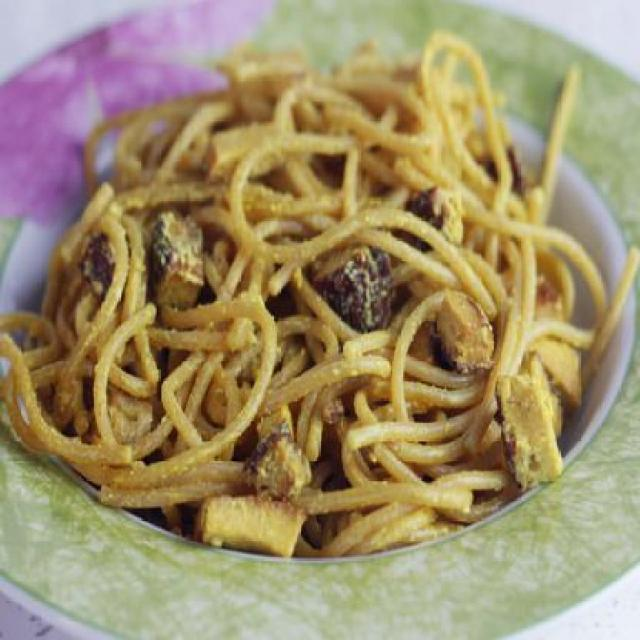Pasta with carbonara sauce: (30, 52, 613, 578)
